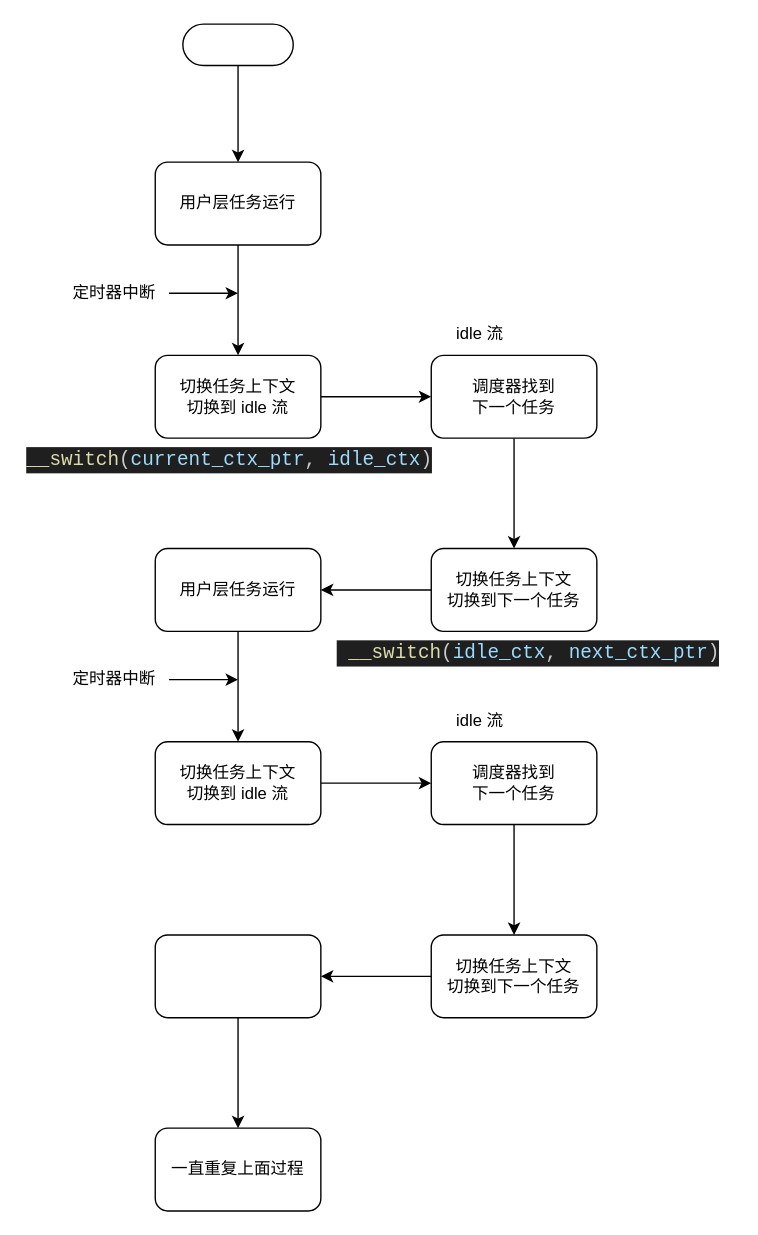
The diagram is 758 pixels wide and 1235 high, and some of its shapes have lost their labels. The shapes that lost their labels are listed below. From the top down, each one's centre as x and y in pixels, then its label:
At (237,44): "任务流".
At (237,976): "run_task".
